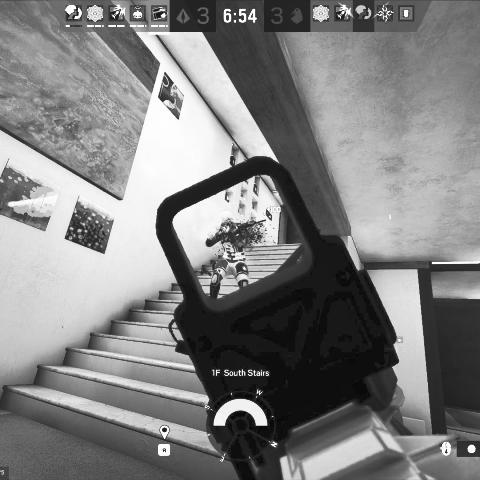Character: (204, 210, 266, 299)
Friend_label: (385, 335, 413, 352)
Head: (220, 211, 236, 229)
